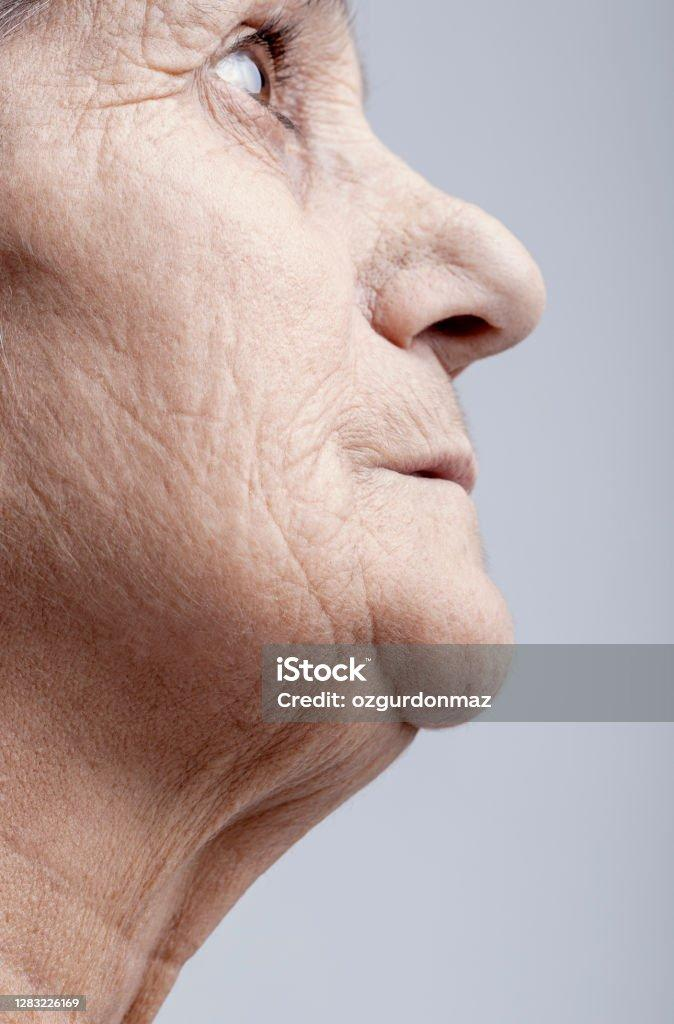Dry-Skin: (14, 284, 276, 559), (14, 0, 205, 241), (348, 171, 534, 322)
